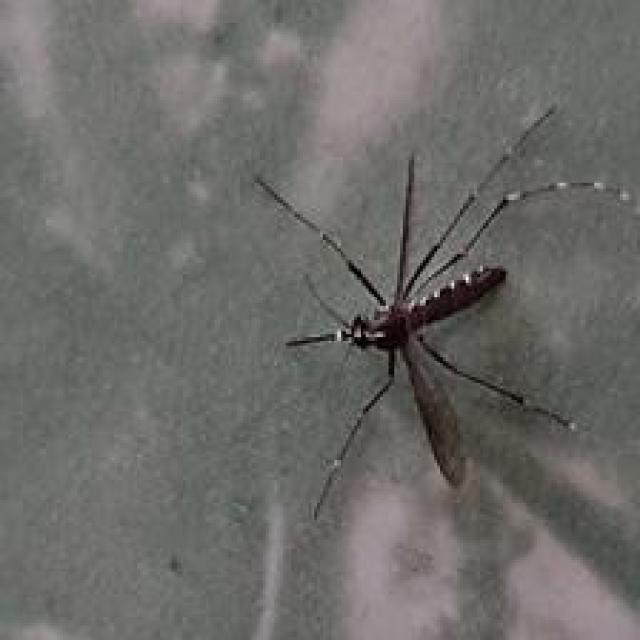Aedes albopictus: (252, 104, 634, 522)
